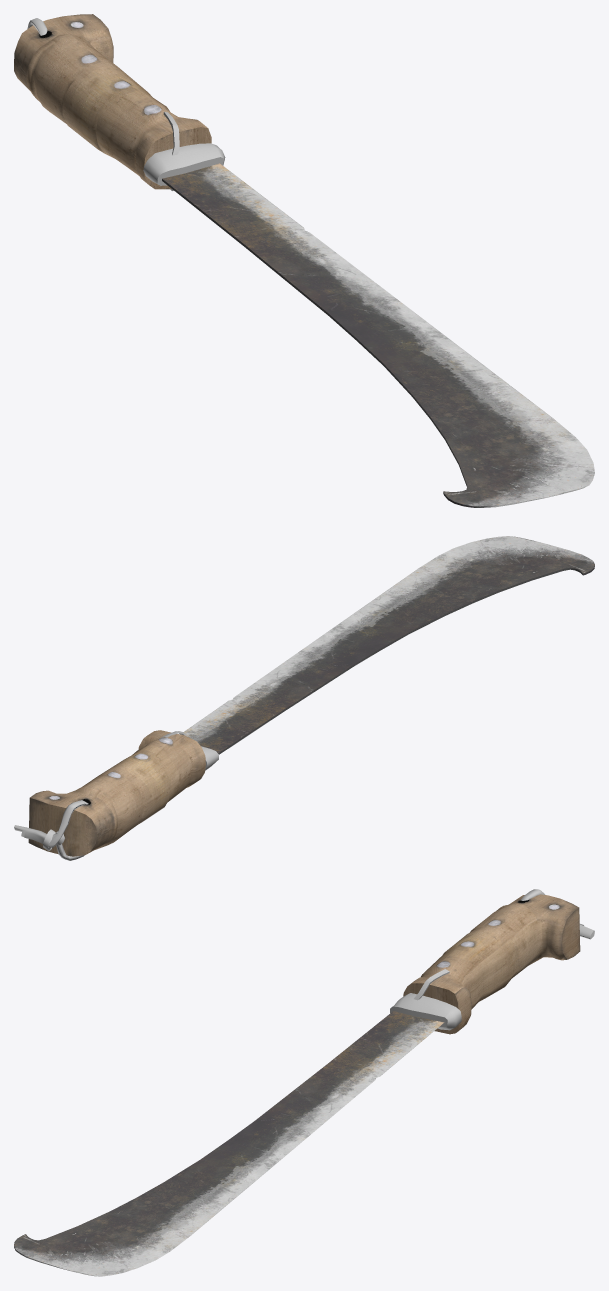
File: Machete.fbx
3 renders of one model, top to bottom at view 1: azimuth 30°, elevation 25°; view 2: azimuth 150°, elevation 25°; view 3: azimuth 330°, elevation 25°, orthographic. The views are drawn at different scales.
Parts seen in each view (by area): view 1: Machete; view 2: Machete; view 3: Machete.
Part boxes in pixels (box(x1,y1,x2,y2)): Machete: box(14, 14, 594, 507); Machete: box(14, 536, 594, 860); Machete: box(14, 889, 594, 1276).
Bounding box in the file's own units: 16.05 × 6.9 × 88.64.
